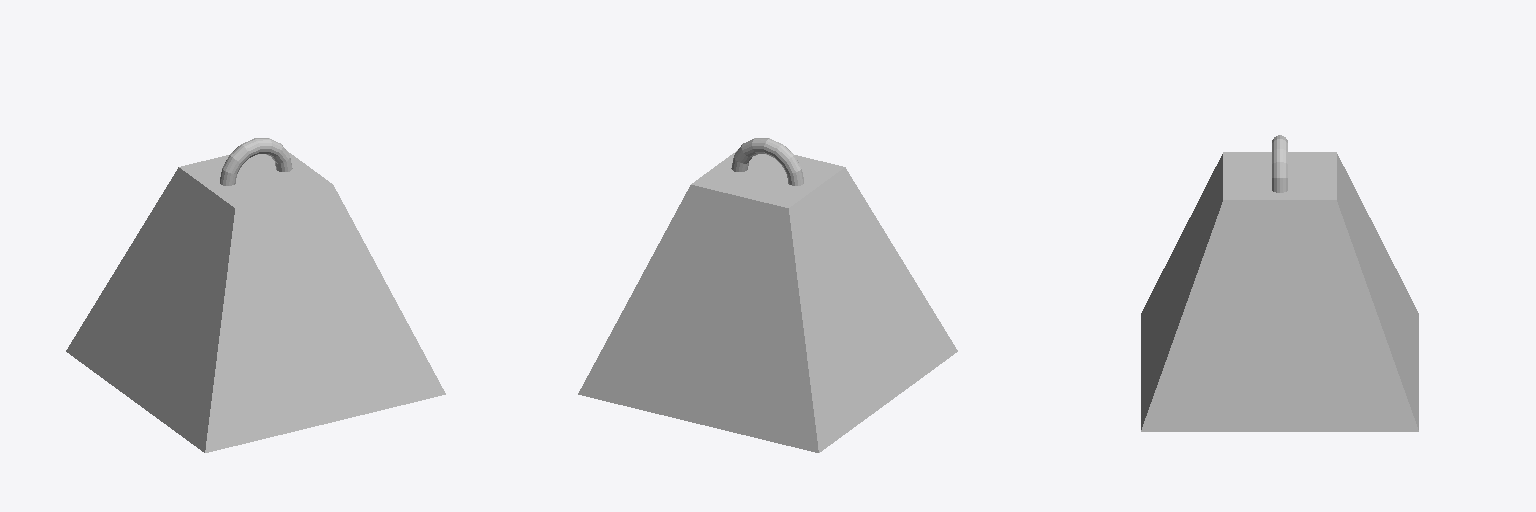
The model's file is weight.obj.
The picture shows the model from 3 angles: view 1: azimuth 30°, elevation 25°; view 2: azimuth 150°, elevation 25°; view 3: azimuth 270°, elevation 25°; orthographic projection.
Parts seen in each view (by area): view 1: Cube; view 2: Cube; view 3: Cube.
Part boxes in pixels (x1,y1,x2,y2): Cube: (66,138,445,452); Cube: (578,138,957,452); Cube: (1141,135,1418,431).
Bounding box in the file's own units: 2 × 1.85 × 2.